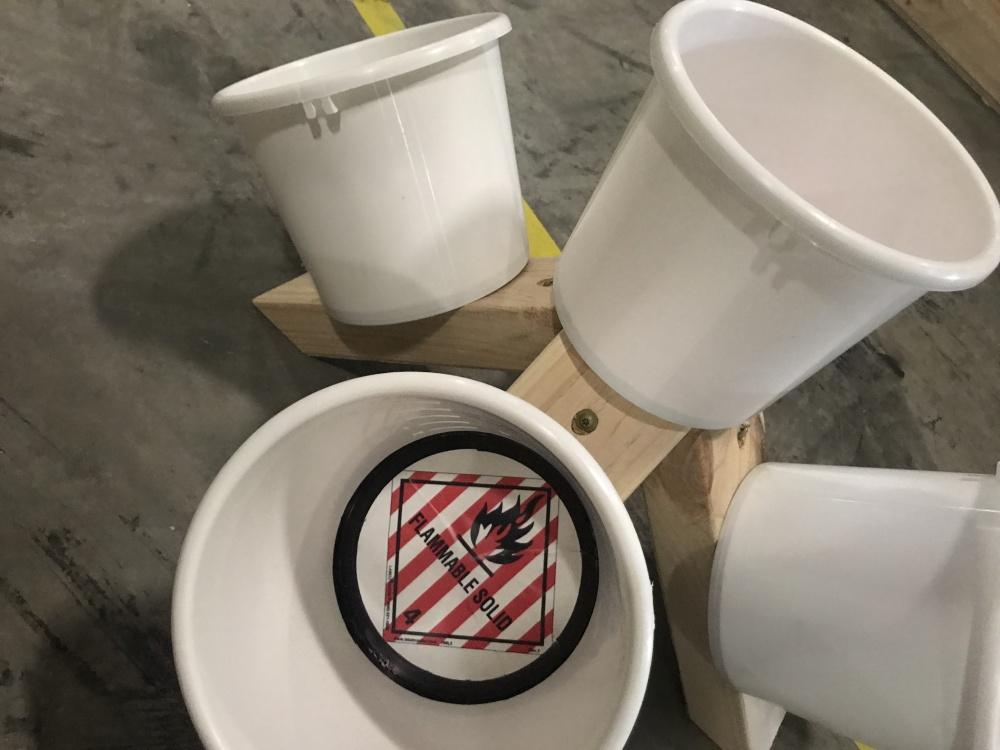flammable-solid: (390, 477, 557, 644)
